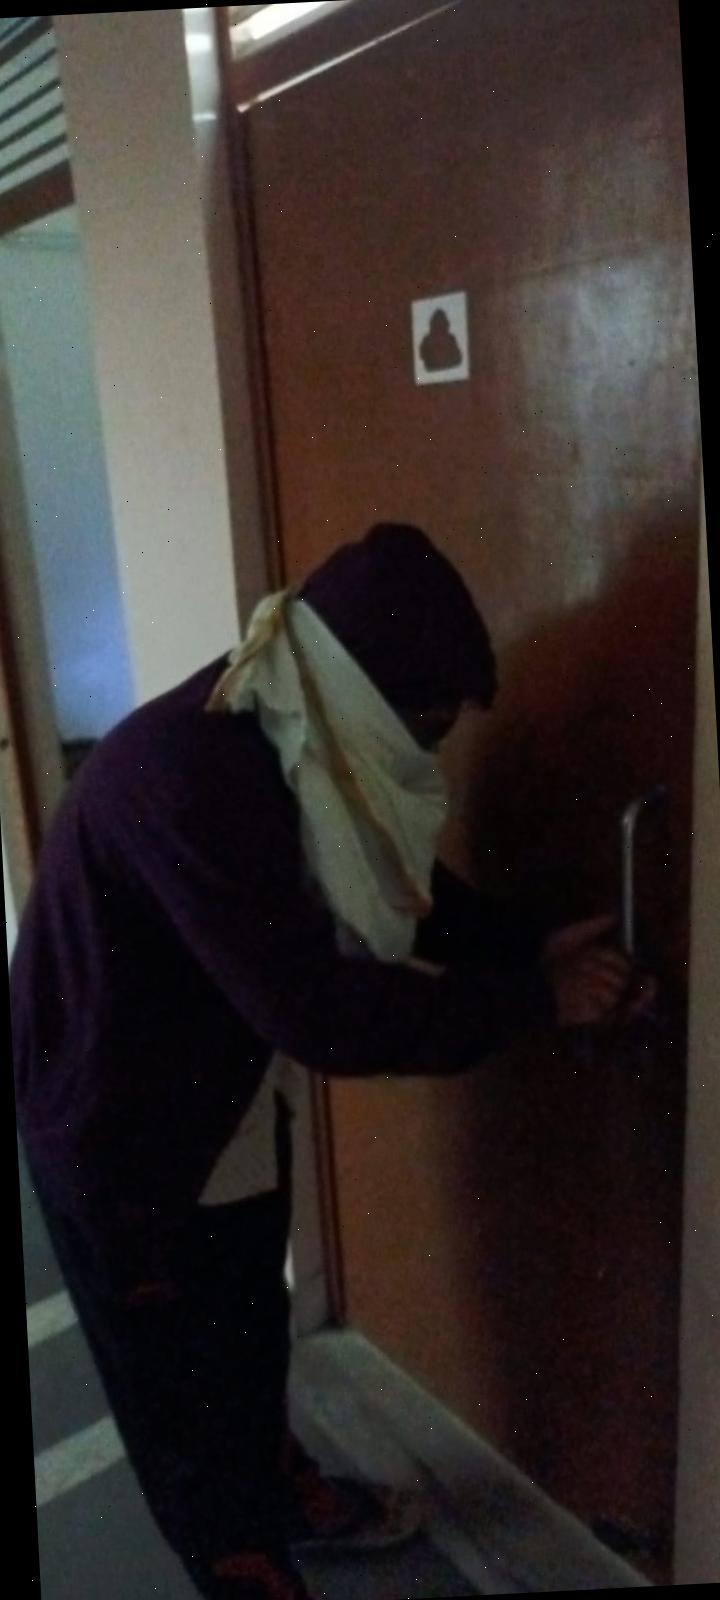suspicion: (0, 479, 716, 1600), (0, 455, 592, 1600)
